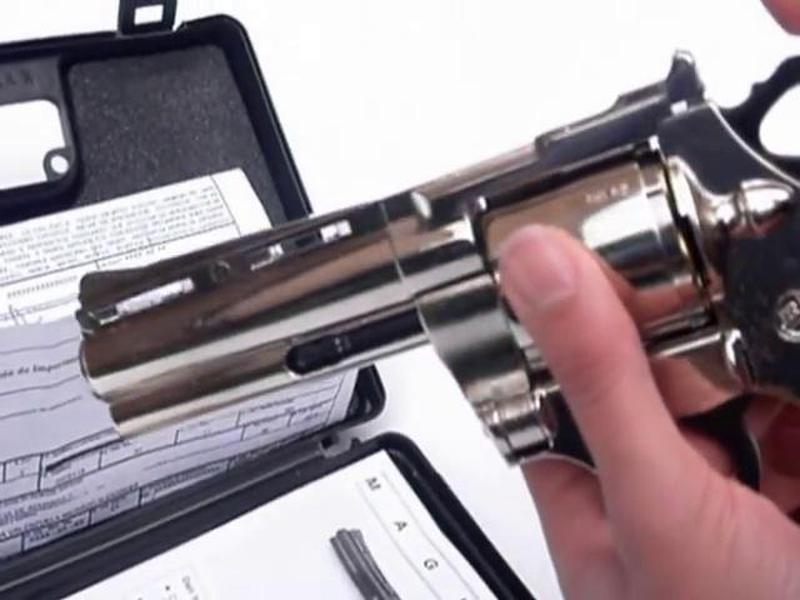Revolver: (84, 44, 800, 481)
